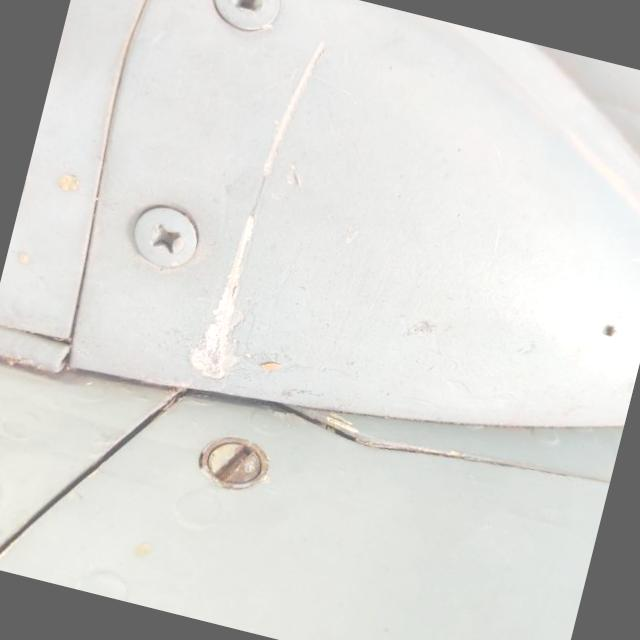scratch: (150, 6, 358, 406)
